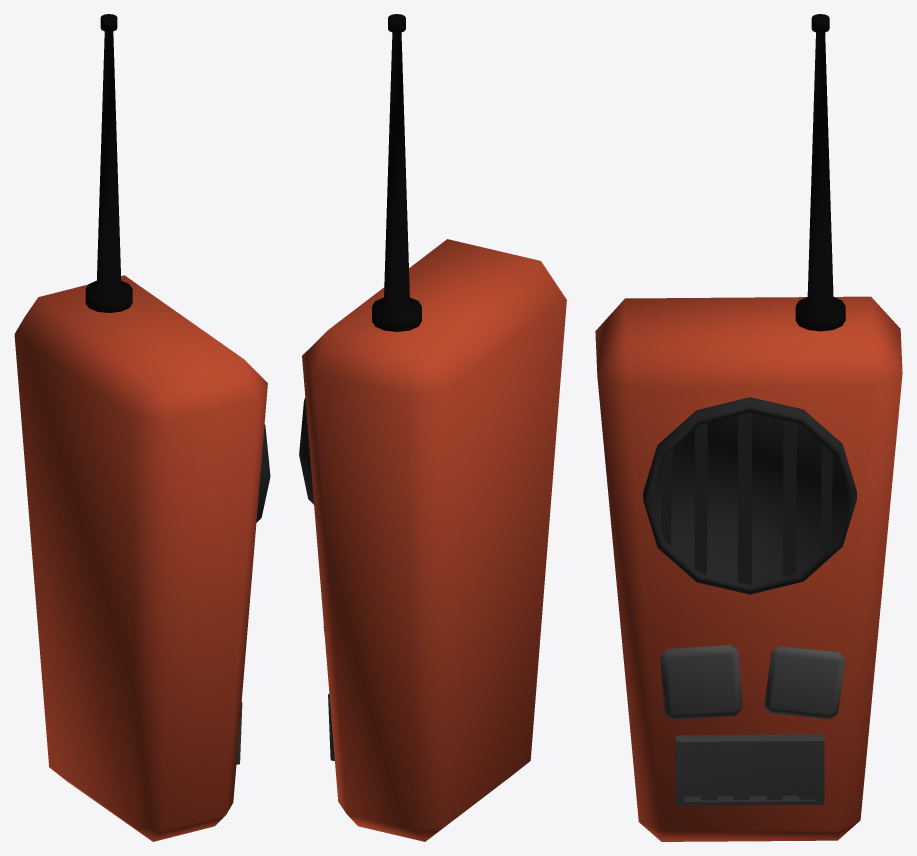
The model's file is radio.obj.
3 renders of one model, left to right at view 1: azimuth 30°, elevation 25°; view 2: azimuth 150°, elevation 25°; view 3: azimuth 270°, elevation 25°, orthographic. The views are drawn at different scales.
Visible parts, largest first — view 1: radio; view 2: radio; view 3: radio.
Part boxes in pixels (x1,y1,x2,y2): radio: (14,14,270,841); radio: (299,14,566,841); radio: (595,14,902,841).
Size of the model in its own units: 0.168 by 0.8043 by 0.277.
